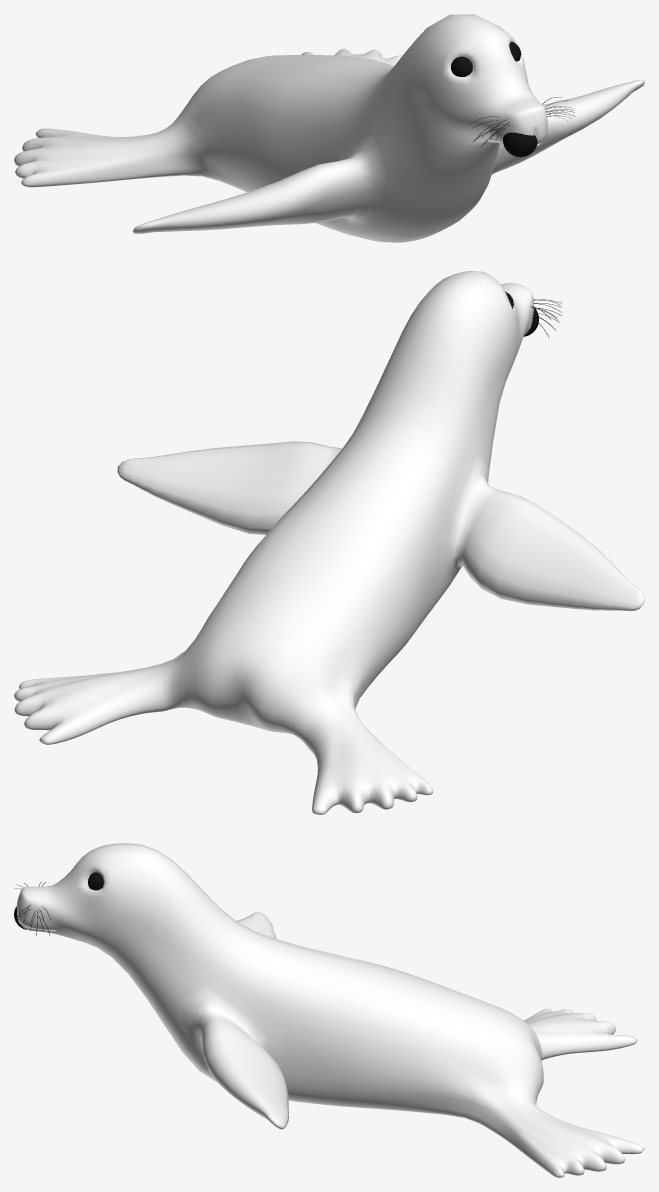
Rendered from Seal.glb.
3 views of the same model, one above another, from view 1: azimuth 30°, elevation 25°; view 2: azimuth 150°, elevation 25°; view 3: azimuth 270°, elevation 25° (orthographic). The views are drawn at different scales.
Visible parts, largest first — view 1: Plane, Sphere.001, Sphere, Plane.001; view 2: Plane; view 3: Plane.
Boxes of the visible parts, x1,y1,x2,y2 form: Plane: [14, 14, 644, 242]; Sphere.001: [503, 132, 537, 157]; Sphere: [451, 42, 521, 76]; Plane.001: [470, 97, 574, 147]; Plane: [14, 271, 644, 814]; Plane: [16, 843, 644, 1177].
Bounding box in the file's own units: 64.94 × 35.13 × 77.19.
2 materials, 2 textured.
